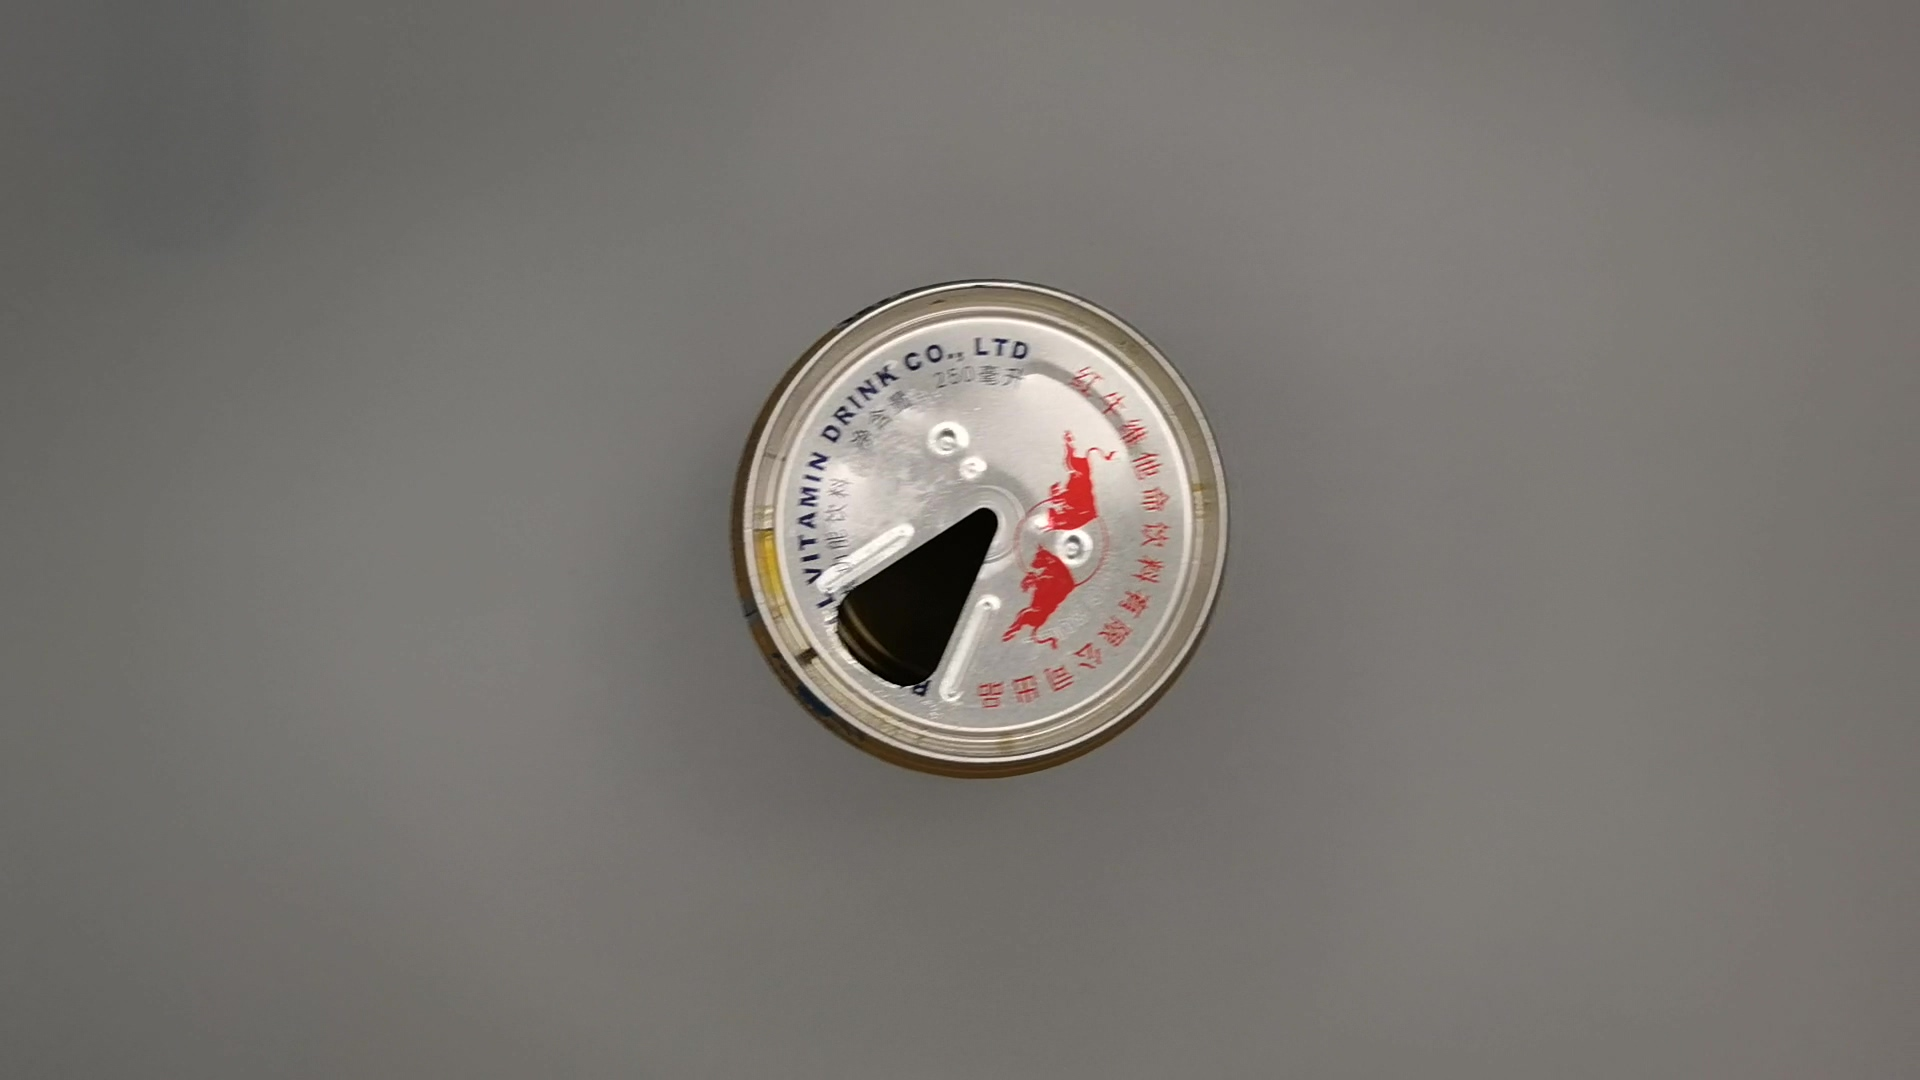can: (721, 276, 1230, 782)
